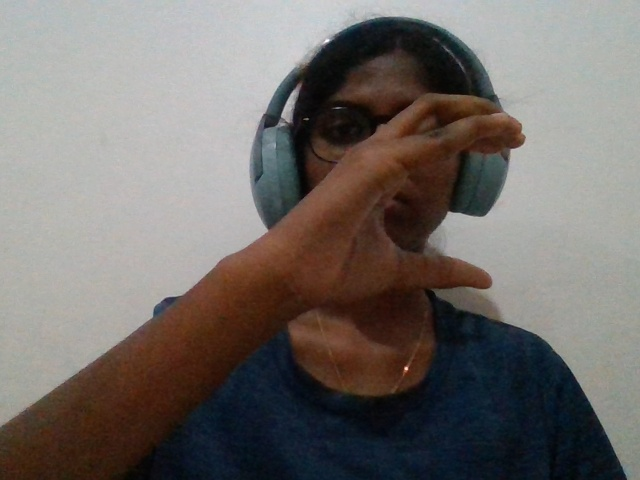C: (150, 73, 592, 400)
